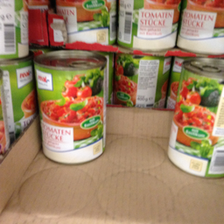tomato_sauce: (32, 50, 108, 165), (165, 58, 224, 181)
